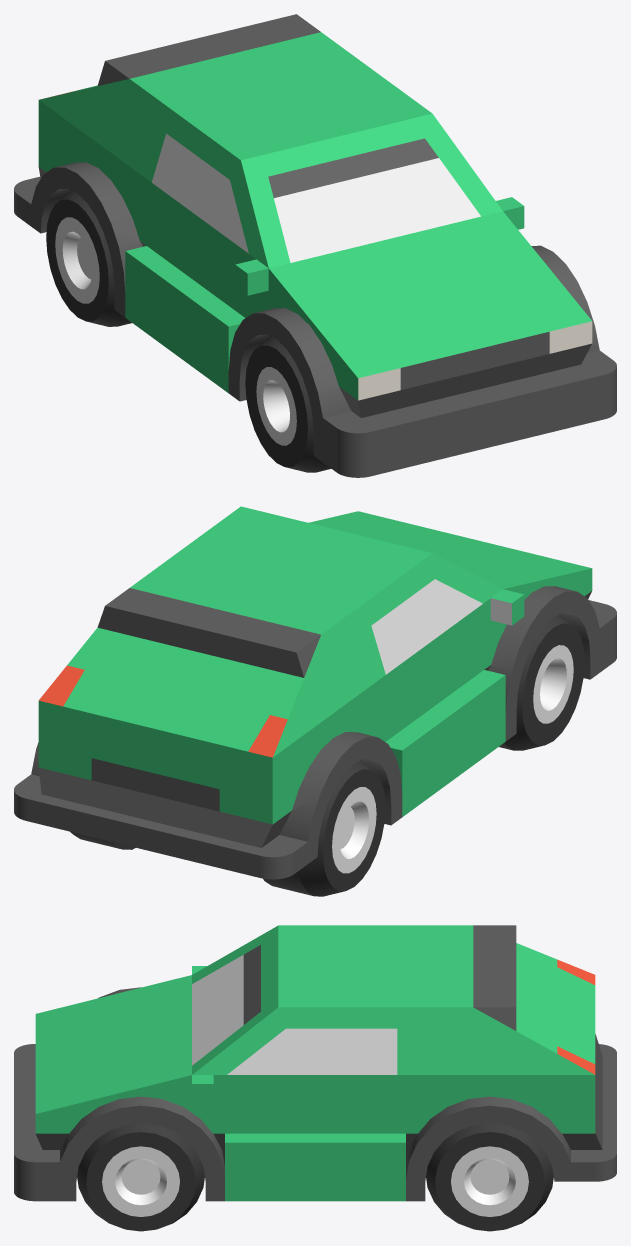
The model's file is hatchbackSports.dae.
The picture shows the model from 3 angles, top to bottom: view 1: azimuth 30°, elevation 25°; view 2: azimuth 150°, elevation 25°; view 3: azimuth 270°, elevation 25°; orthographic projection. The views are drawn at different scales.
Visible parts, largest first — view 1: body, wheel_backLeft, wheel_frontLeft; view 2: body, wheel_backLeft, wheel_frontLeft; view 3: body, wheel_backRight, wheel_frontRight.
Boxes of the visible parts, x1,y1,x2,y2 form: body: (14, 14, 616, 477); wheel_backLeft: (46, 190, 131, 326); wheel_frontLeft: (245, 336, 331, 472); body: (14, 506, 616, 879); wheel_backLeft: (263, 760, 385, 896); wheel_frontLeft: (499, 614, 584, 750); body: (14, 925, 616, 1201); wheel_backRight: (426, 1123, 553, 1231); wheel_frontRight: (77, 1123, 204, 1231).
Bounding box in the file's own units: 0.975 × 0.825 × 2.1.
